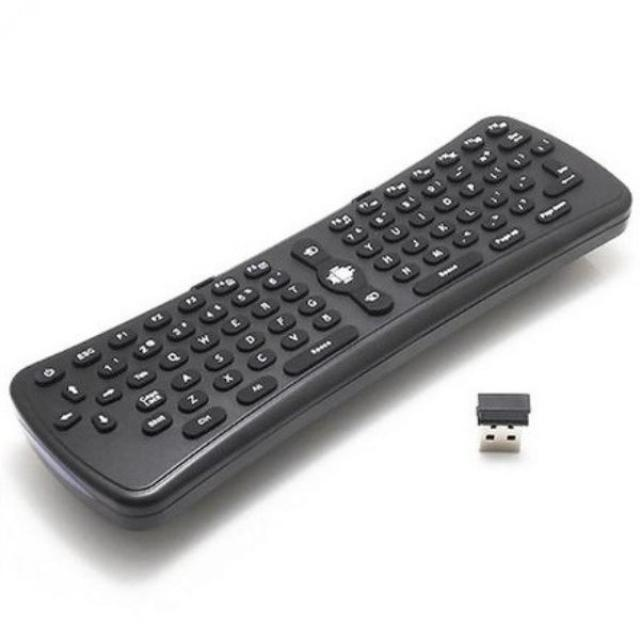remote: (9, 114, 640, 533)
